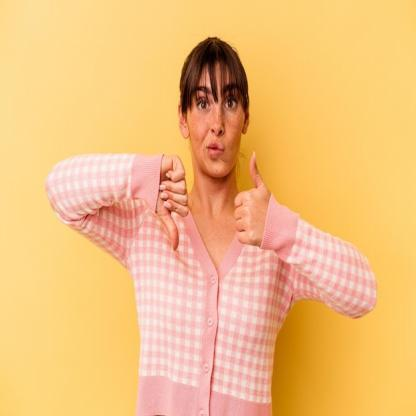thumb_down: (152, 148, 191, 254)
thumb_up: (232, 150, 275, 250)
